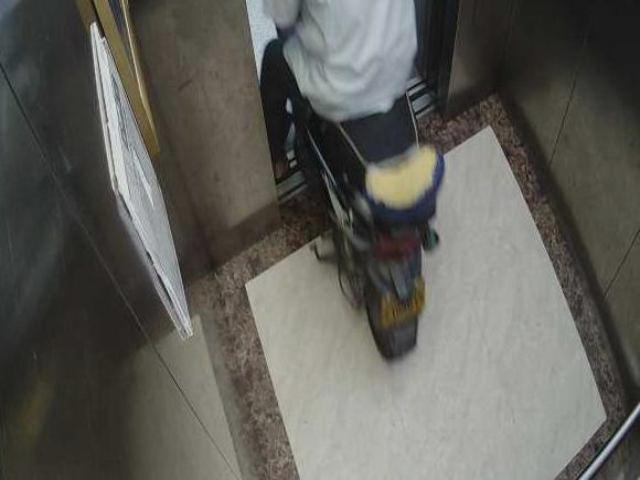emotor: (310, 103, 442, 351)
